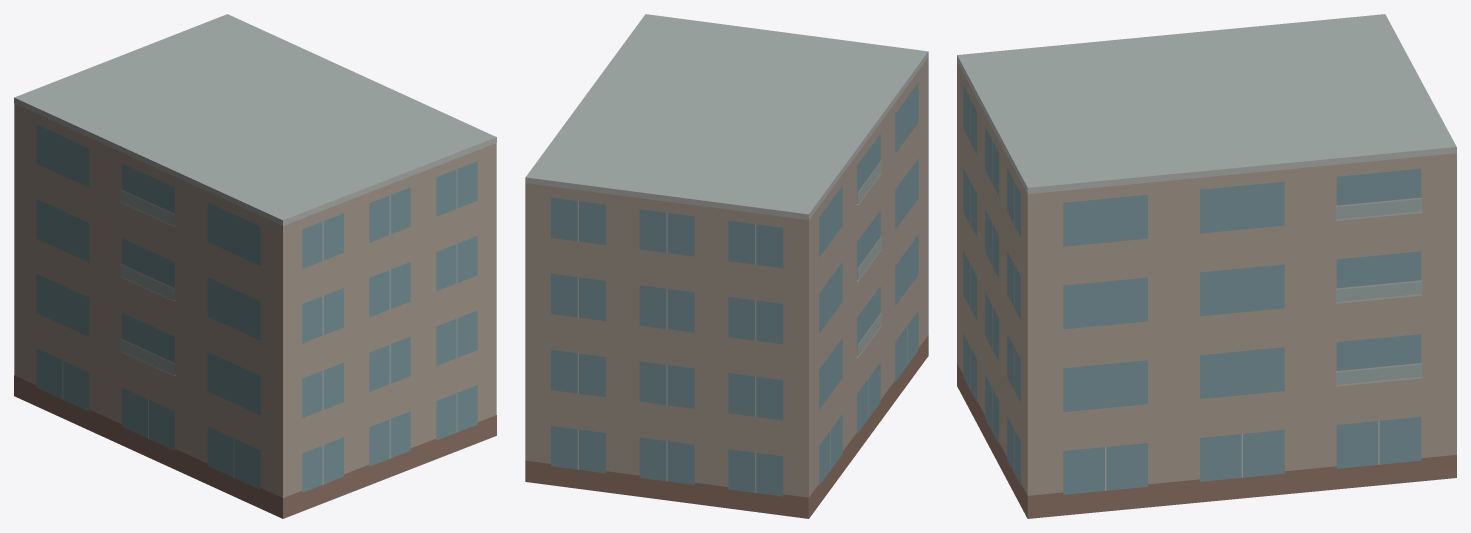
File: survey-upis-32584004.glb
The picture shows the model from 3 angles, left to right: view 1: azimuth 30°, elevation 25°; view 2: azimuth 150°, elevation 25°; view 3: azimuth 270°, elevation 25°; orthographic projection. The views are drawn at different scales.
Parts seen in each view (by area): view 1: survey-upis-32584004.tmp; view 2: survey-upis-32584004.tmp; view 3: survey-upis-32584004.tmp.
Part boxes in pixels (x1=…): survey-upis-32584004.tmp: x1=14, y1=14, x2=496, y2=518; survey-upis-32584004.tmp: x1=525, y1=14, x2=928, y2=518; survey-upis-32584004.tmp: x1=957, y1=14, x2=1456, y2=518.
Size of the model in its own units: 14.49 by 12.85 by 17.59.
